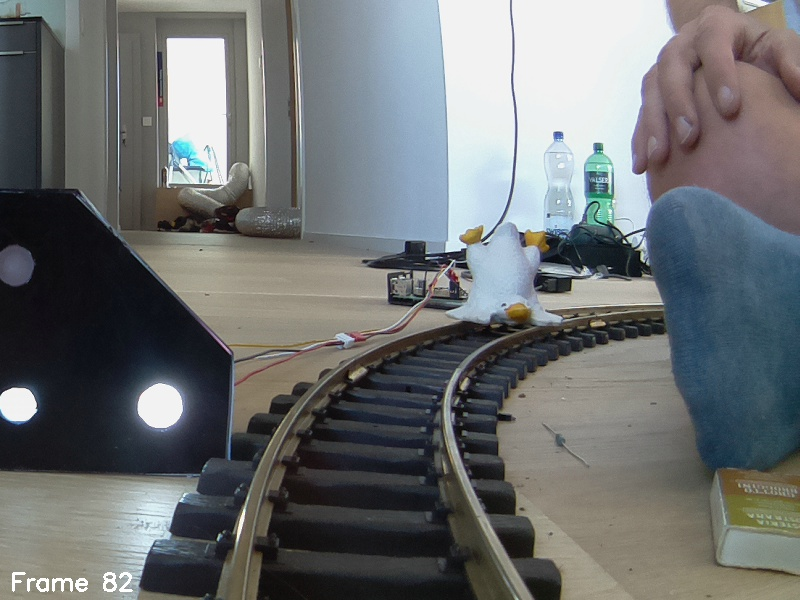Ente: (447, 223, 566, 335)
Halt: (2, 190, 226, 477)
